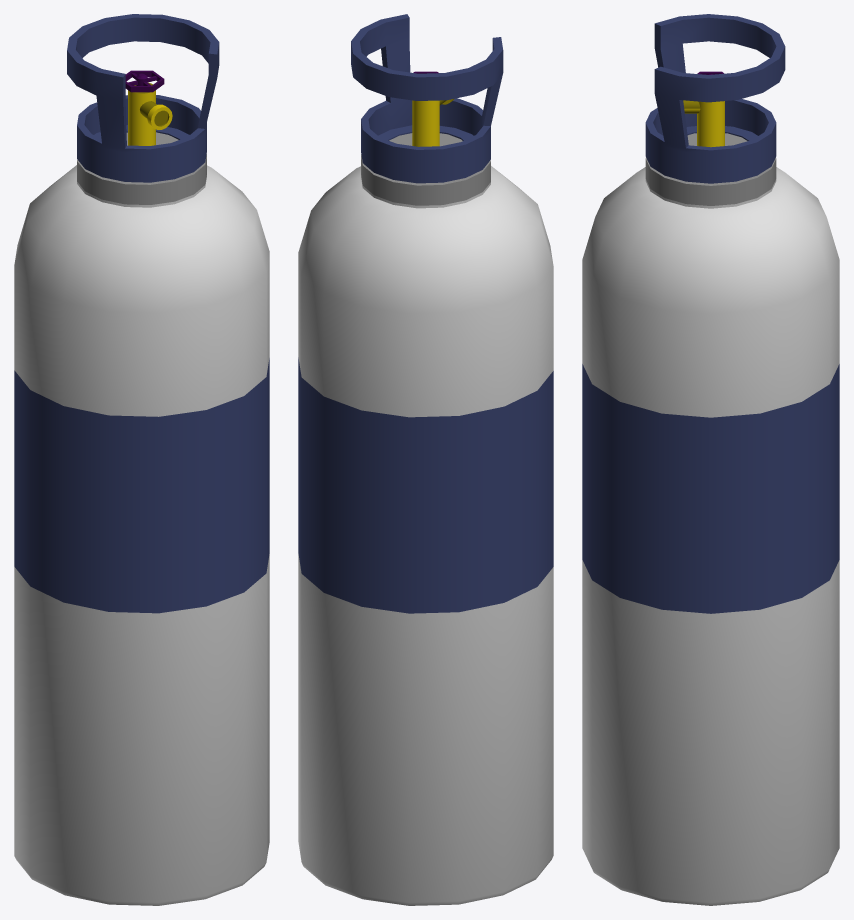
The model's file is Oxygene_Bottle.fbx.
3 renders of one model, left to right at view 1: azimuth 30°, elevation 25°; view 2: azimuth 150°, elevation 25°; view 3: azimuth 270°, elevation 25°, orthographic.
Visible parts, largest first — view 1: OxygeneBottle; view 2: OxygeneBottle; view 3: OxygeneBottle.
Boxes of the visible parts, left/top/right/bottom form: OxygeneBottle: left=14, top=14, right=269, bottom=905; OxygeneBottle: left=298, top=14, right=553, bottom=905; OxygeneBottle: left=582, top=14, right=839, bottom=905.
Bounding box in the file's own units: 24 × 83.14 × 24.
